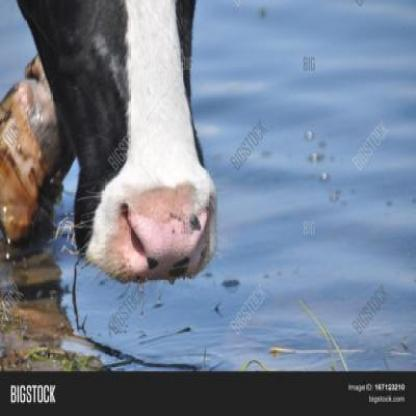mouth: (90, 188, 218, 286)
upper: (114, 207, 206, 273)
